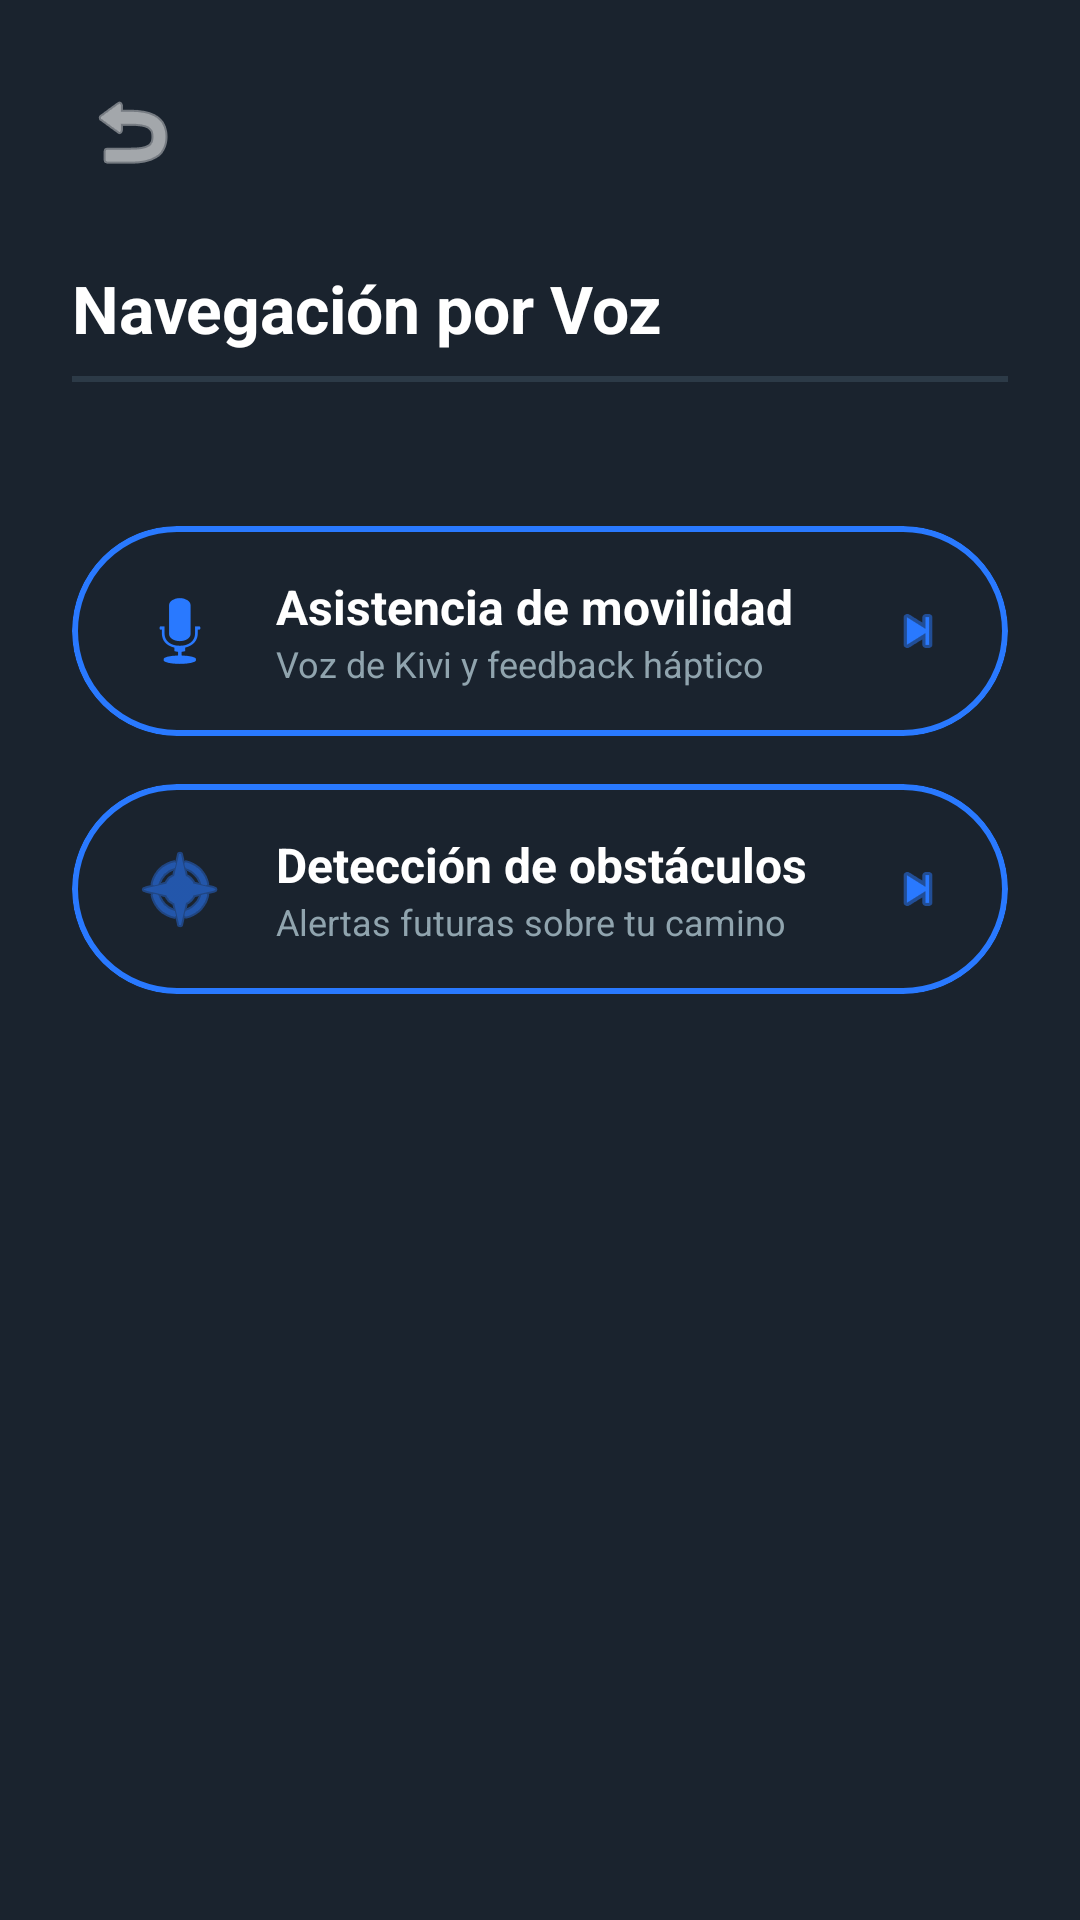

Locate icon controls on the screen. Image size 1080×1920, boxes as (x1=x1, y1=y1, x2=x2, y2=y2).
next: (x1=903, y1=614, x2=933, y2=648), (x1=903, y1=872, x2=933, y2=906)
speak now: (x1=159, y1=598, x2=201, y2=664)
Volver: (x1=99, y1=101, x2=168, y2=164)
